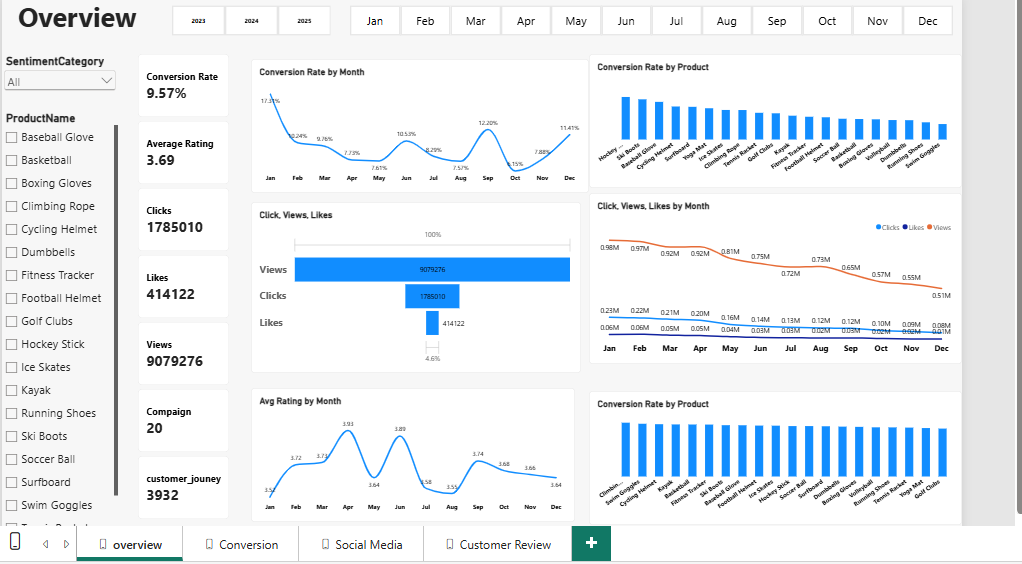

The dashboard page shown, as its layout file describes it:
{"tool":"powerbi","page":{"name":"overview","canvas":[1920,1080],"ordinal":0},"visuals":[{"type":"cardVisual","fields":{"Data":["Calculation.Conversion Rate","Calculation.Average Rating","Calculation.Clicks","Calculation.Likes","Calculation.Views","Calculation.Compaign","Calculation.customer_jouney"]},"box":[272,112,182,932],"z":0},{"type":"textbox","box":[32.1,0,287.1,76.3],"z":1000},{"type":"slicer","fields":{"Values":["products.ProductName"]},"box":[0,226,232,854],"z":2000},{"type":"slicer","fields":{"Values":["DateTable.Year"]},"box":[320,14,356,62],"z":6000},{"type":"slicer","fields":{"Values":["DateTable.Month Short"]},"box":[676,14,1244,62],"z":7000},{"type":"lineChart","title":"Conversion Rate by Month","fields":{"Category":["DateTable.Month Short"],"Y":["Calculation.Conversion Rate"]},"box":[498,122,676,268],"z":8000},{"type":"columnChart","title":"Conversion Rate by Product","fields":{"Category":["products.ProductName"],"Y":["Calculation.Conversion Rate"]},"box":[1174,112,746,268],"z":9000},{"type":"lineChart","title":"Click, Views, Likes by Month","fields":{"Category":["DateTable.Month Short"],"Y":["Calculation.Clicks","Calculation.Likes","Calculation.Views"]},"box":[1174,390,746,342],"z":10000},{"type":"funnel","title":"Click, Views, Likes","fields":{"Y":["Calculation.Views","Calculation.Clicks","Calculation.Likes"]},"box":[498,408,660,342],"z":11000},{"type":"lineChart","title":"Avg Rating by Month","fields":{"Category":["DateTable.Month Short"],"Y":["Calculation.Average Rating"]},"box":[498,780,648,268],"z":12000},{"type":"columnChart","title":"Conversion Rate by Product","fields":{"Category":["products.ProductName"],"Y":["Calculation.Average Rating"]},"box":[1174,786,746,268],"z":13000},{"type":"slicer","fields":{"Values":["customer_reviews_sentement.SentimentCategory"]},"box":[0,112,232,116],"z":13001}]}

Visuals, with their boxes on the page's 1920x1080 design canvas (x1, y1, x2, y2). These are canvas units, not pixel positions in the 1022x564 screenshot, which may show the page scaled, cropped or inside an application window:
cardVisual - Calculation.Conversion Rate x Calculation.Average Rating: <box>272,112,454,1044</box>
textbox: <box>32,0,319,76</box>
slicer - products.ProductName: <box>0,226,232,1080</box>
slicer - DateTable.Year: <box>320,14,676,76</box>
slicer - DateTable.Month Short: <box>676,14,1920,76</box>
"Conversion Rate by Month" lineChart: <box>498,122,1174,390</box>
"Conversion Rate by Product" columnChart: <box>1174,112,1920,380</box>
"Click, Views, Likes by Month" lineChart: <box>1174,390,1920,732</box>
"Click, Views, Likes" funnel: <box>498,408,1158,750</box>
"Avg Rating by Month" lineChart: <box>498,780,1146,1048</box>
"Conversion Rate by Product" columnChart: <box>1174,786,1920,1054</box>
slicer - customer_reviews_sentement.SentimentCategory: <box>0,112,232,228</box>
